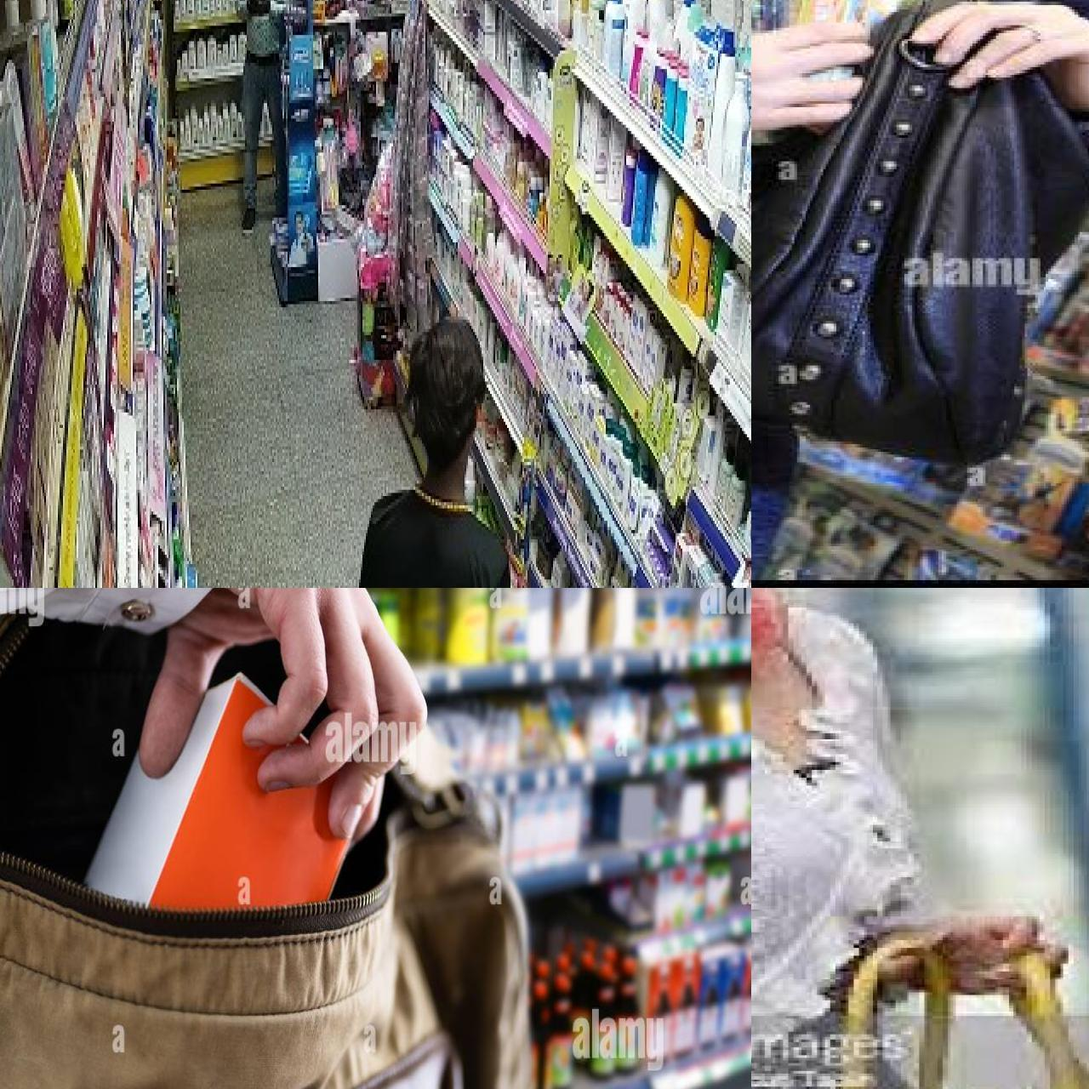shoplifting: (0, 588, 620, 1089)
